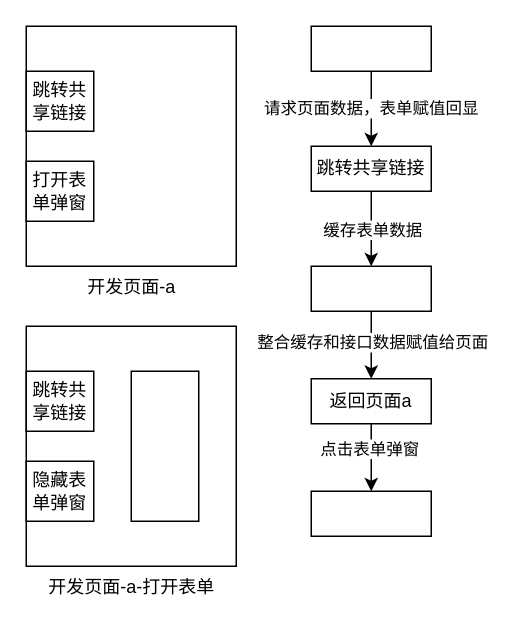
This 513x624 diagram has some shape labels left out. The centre of each missing label's shape, as x and y in pixels:
浏览共享链接的页面: the point at 370,288
表单填写: the point at 164,445
页面加载: the point at 370,48
页面白屏: the point at 370,513
